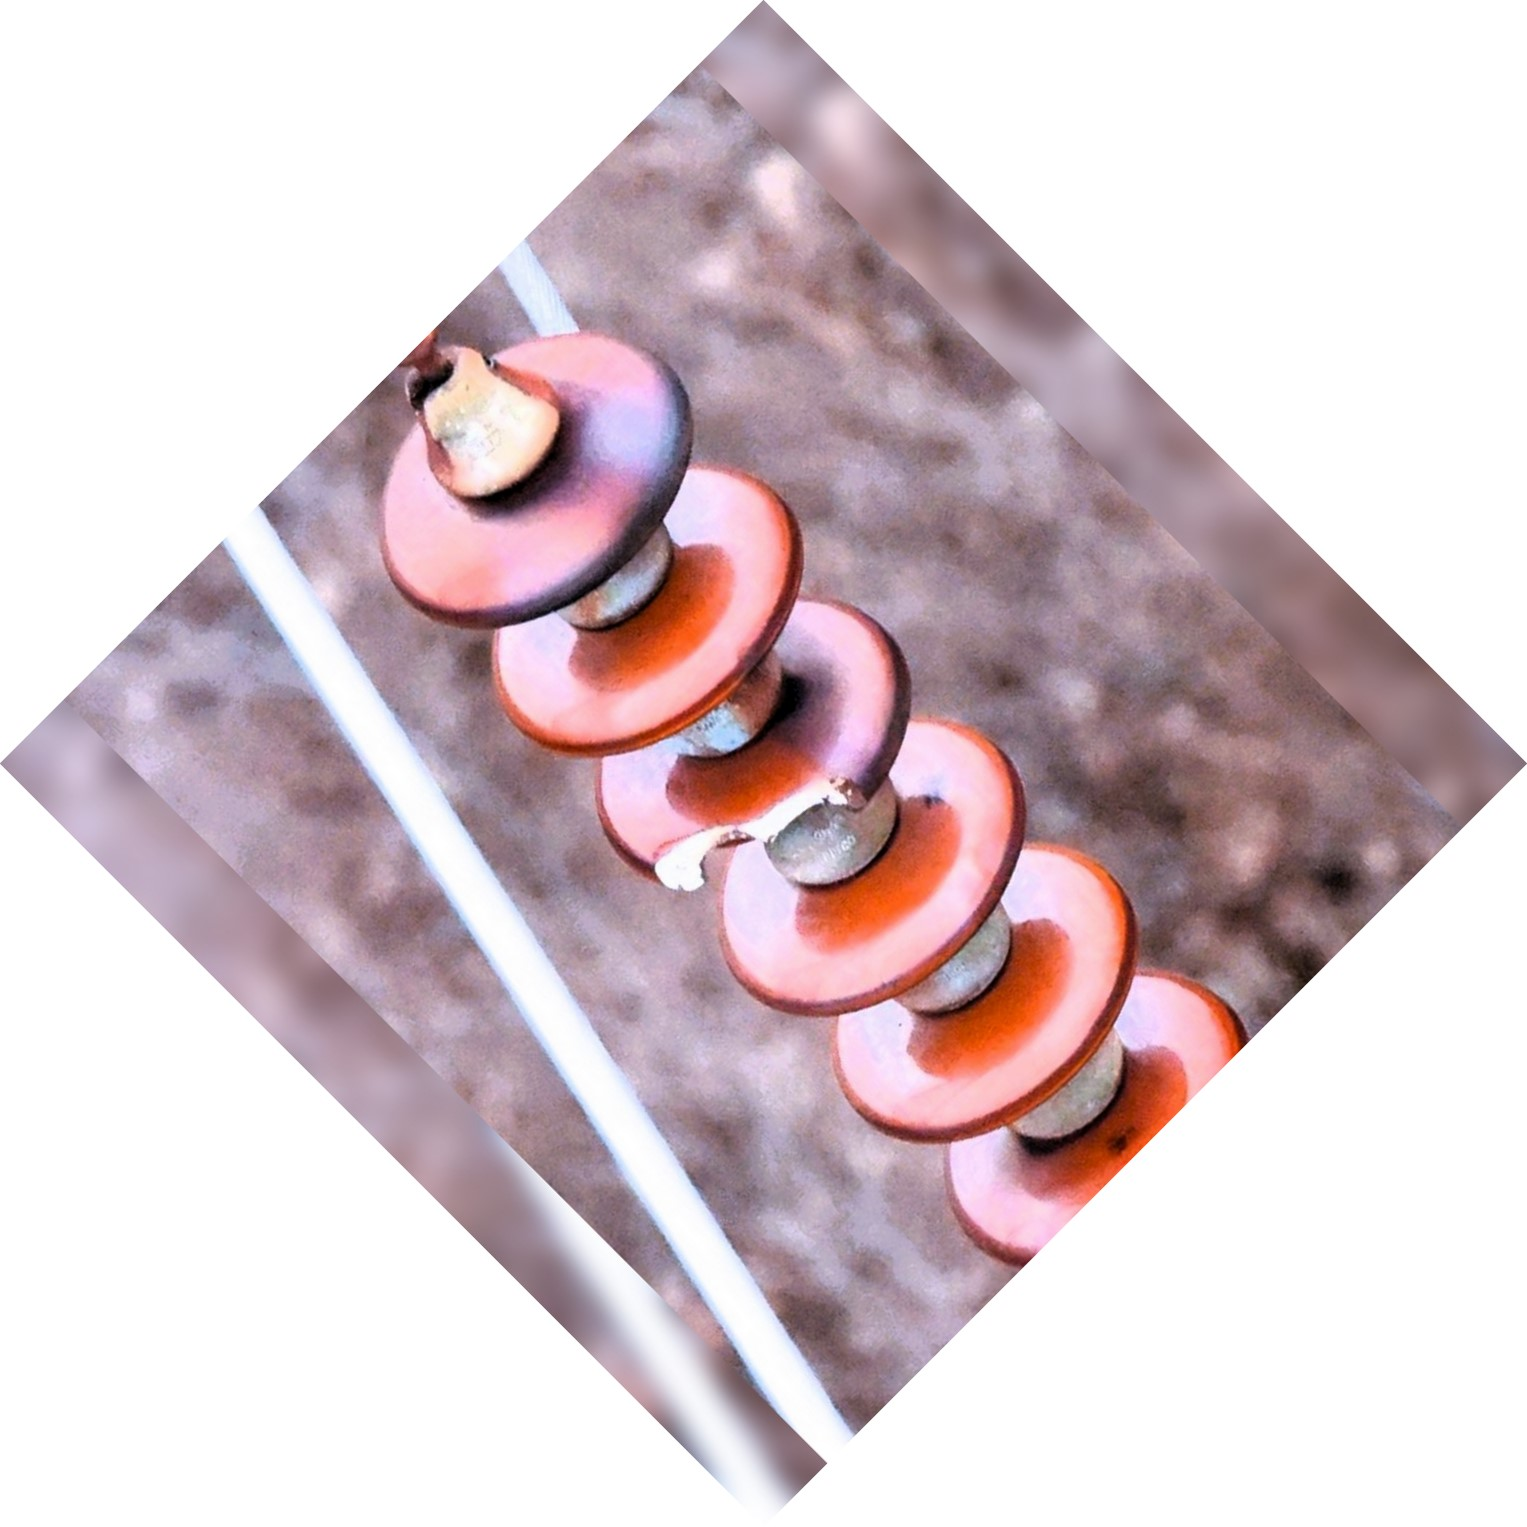insulator breakage: (573, 589, 920, 910)
